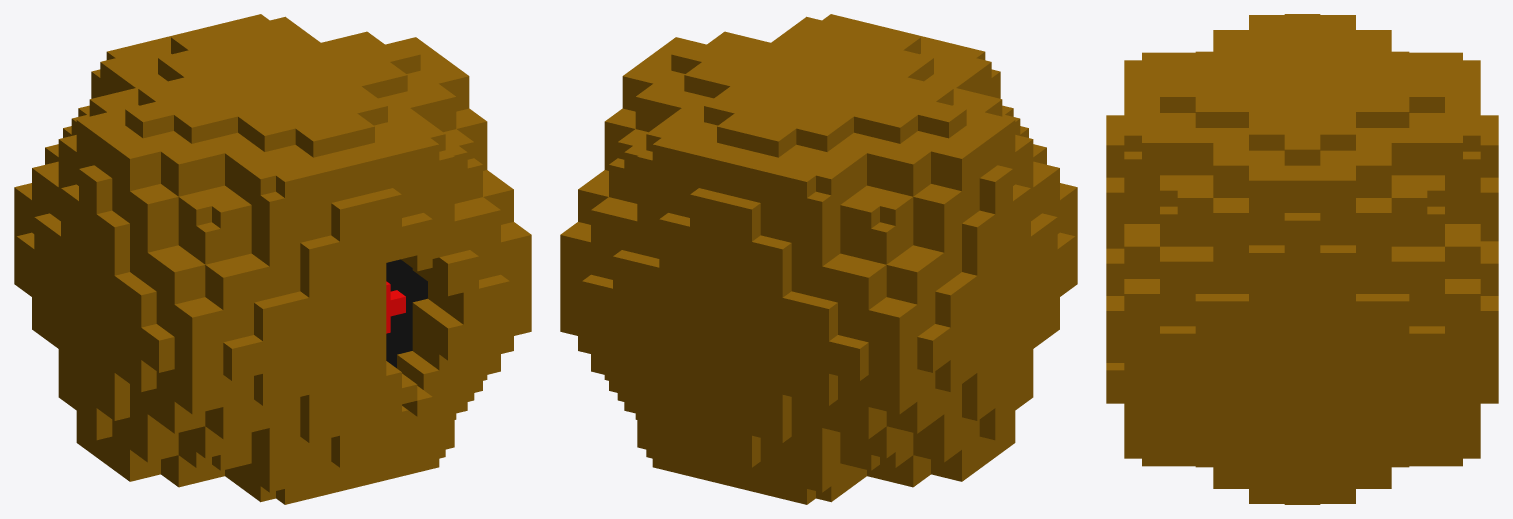
The model's file is Monster_Rock.obj.
The picture shows the model from 3 angles, left to right: view 1: azimuth 30°, elevation 25°; view 2: azimuth 150°, elevation 25°; view 3: azimuth 270°, elevation 25°; orthographic projection.
Visible parts, largest first — view 1: Monster_Rock; view 2: Monster_Rock; view 3: Monster_Rock.
Boxes of the visible parts, left/top/right/bottom form: Monster_Rock: left=14, top=14, right=531, bottom=504; Monster_Rock: left=560, top=14, right=1077, bottom=504; Monster_Rock: left=1106, top=14, right=1498, bottom=504.
Size of the model in its own units: 24 by 22 by 22.
Materials: 1 (1 with a texture image).
